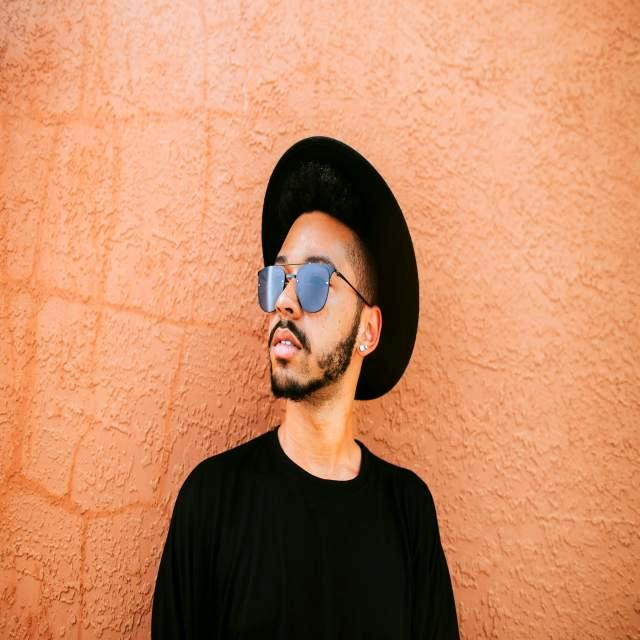no_hard_hat: (262, 136, 419, 400)
person: (152, 137, 459, 640)
